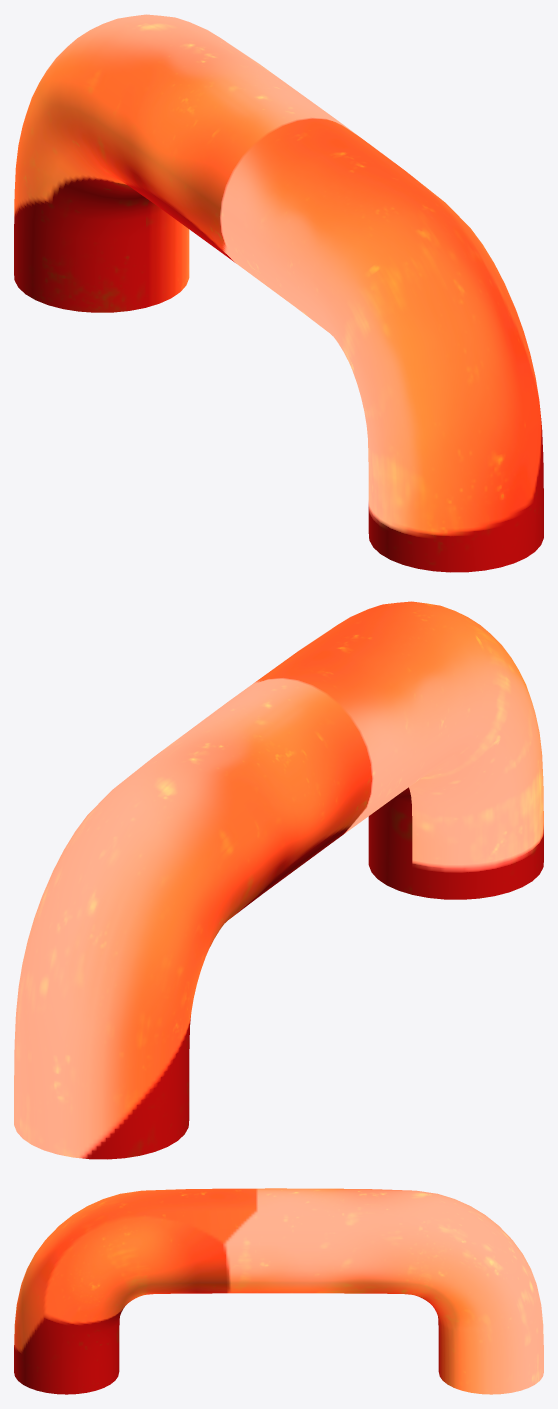
File: SM_PlasticPipe_curv_01.fbx
The picture shows the model from 3 angles, top to bottom: view 1: azimuth 30°, elevation 25°; view 2: azimuth 150°, elevation 25°; view 3: azimuth 270°, elevation 25°; orthographic projection. The views are drawn at different scales.
Visible parts, largest first — view 1: SM_PlasticPipe_curv_01_LOD0; view 2: SM_PlasticPipe_curv_01_LOD0; view 3: SM_PlasticPipe_curv_01_LOD0.
Boxes of the visible parts, left/top/right/bottom form: SM_PlasticPipe_curv_01_LOD0: left=14, top=14, right=543, bottom=572; SM_PlasticPipe_curv_01_LOD0: left=14, top=601, right=543, bottom=1159; SM_PlasticPipe_curv_01_LOD0: left=14, top=1188, right=543, bottom=1394.
Bounding box in the file's own units: 14.85 × 74.85 × 27.9.
